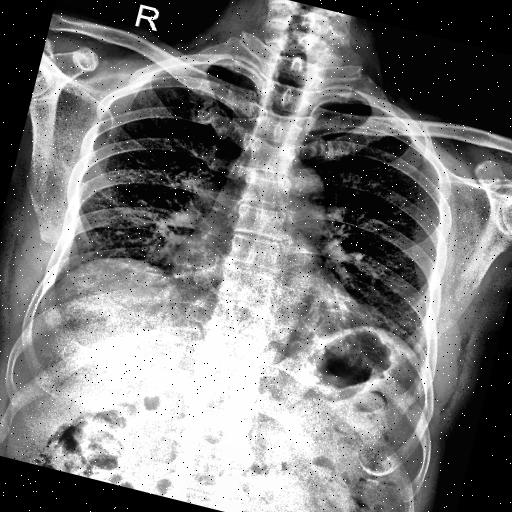5- ILD: (256, 140, 464, 387), (46, 108, 240, 328), (108, 122, 222, 279), (332, 242, 426, 344)
6- Infiltration: (86, 189, 188, 275), (330, 262, 432, 342)
7- Lung Opacity: (86, 189, 188, 275), (330, 262, 432, 342)
